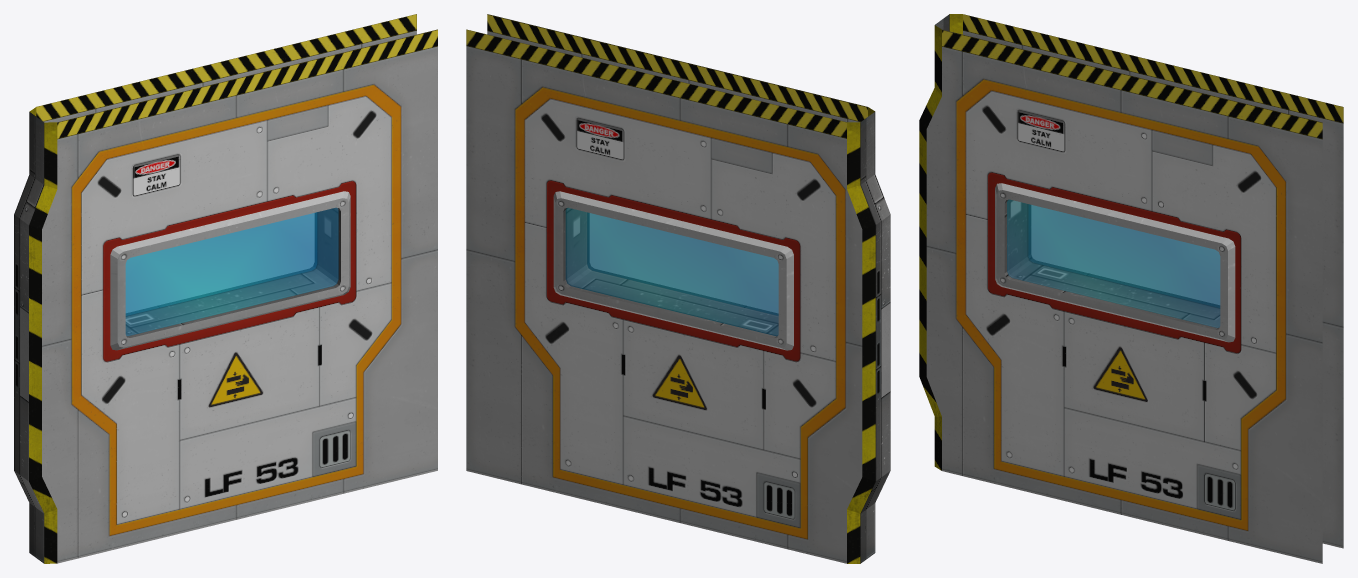
Rendered from DoorMovable_Long_02.FBX.
3 renders of one model, left to right at view 1: azimuth 30°, elevation 25°; view 2: azimuth 150°, elevation 25°; view 3: azimuth 330°, elevation 25°, orthographic.
Visible parts, largest first — view 1: DoorMovable_Long_02; view 2: DoorMovable_Long_02; view 3: DoorMovable_Long_02.
Part boxes in pixels (<box>): DoorMovable_Long_02: <box>14,14,437,563</box>; DoorMovable_Long_02: <box>466,14,890,563</box>; DoorMovable_Long_02: <box>919,14,1343,563</box>.
Bounding box in the file's own units: 116 × 121 × 13.14.
